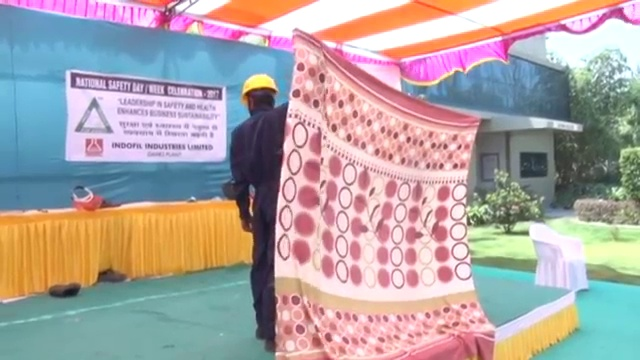helmet: (241, 73, 278, 106)
helmet_on: (238, 73, 280, 119)
person: (225, 73, 285, 350)
